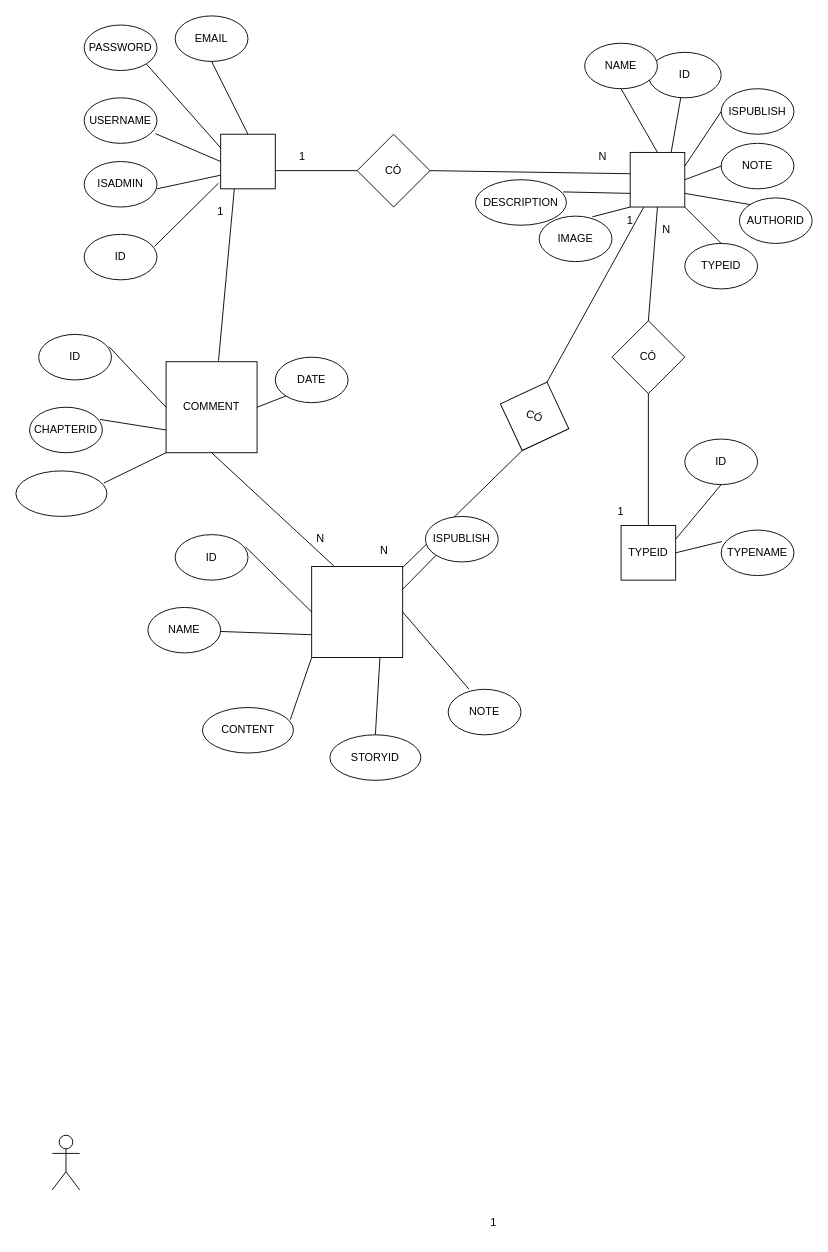
Some shapes in this 828 by 1252 pixel diagram are drawn without their labels. The shapes that lost their labels are listed below. From the top down, each one's centre as x and y in pixels, then its label:
At point 247,161: "USES".
At point 657,179: "STORY".
At point 61,493: "BODY".
At point 357,611: "CHAPTERSTORY".
At point 65,1162: "Actor".
